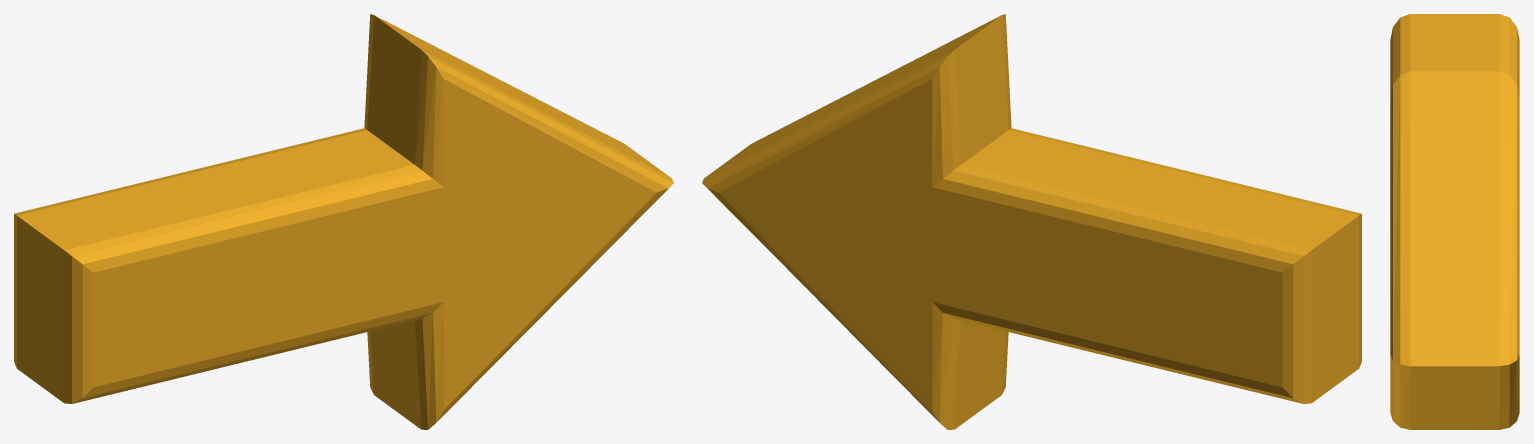
The model's file is arrow.glb.
The picture shows the model from 3 angles, left to right: view 1: azimuth 30°, elevation 25°; view 2: azimuth 150°, elevation 25°; view 3: azimuth 270°, elevation 25°; orthographic projection. The views are drawn at different scales.
Parts seen in each view (by area): view 1: arrow; view 2: arrow; view 3: arrow.
Boxes of the visible parts, x1=… form: arrow: x1=14, y1=14, x2=673, y2=429; arrow: x1=702, y1=14, x2=1361, y2=429; arrow: x1=1390, y1=14, x2=1519, y2=429.
Size of the model in its own units: 1.99 by 1.19 by 0.39.
